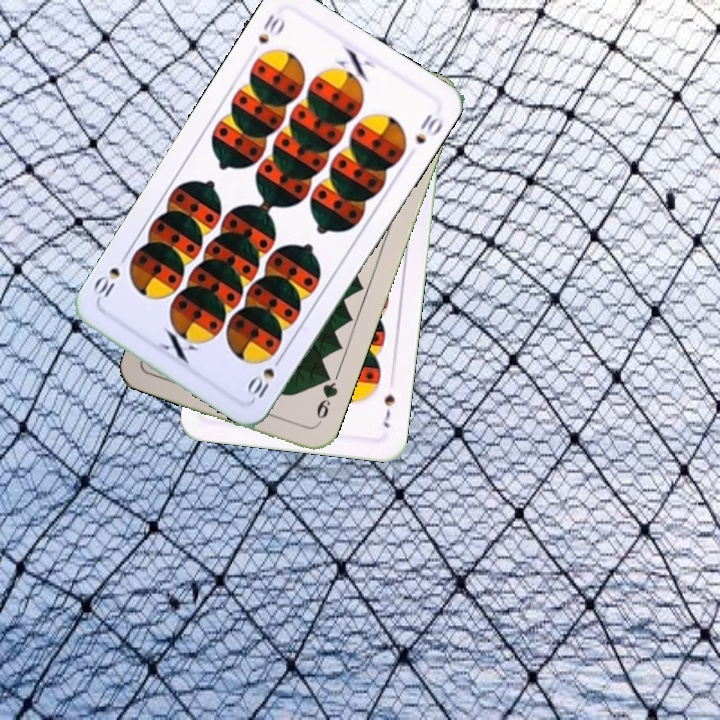G9: (312, 369, 341, 428)
S10: (243, 351, 286, 401), (254, 9, 288, 47)
S7: (379, 390, 398, 430)
